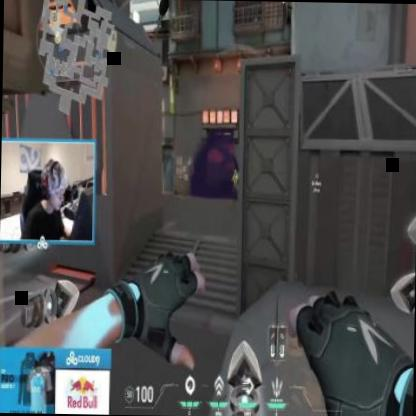enemy: (230, 168, 239, 202)
enemy_head: (233, 170, 236, 176)
